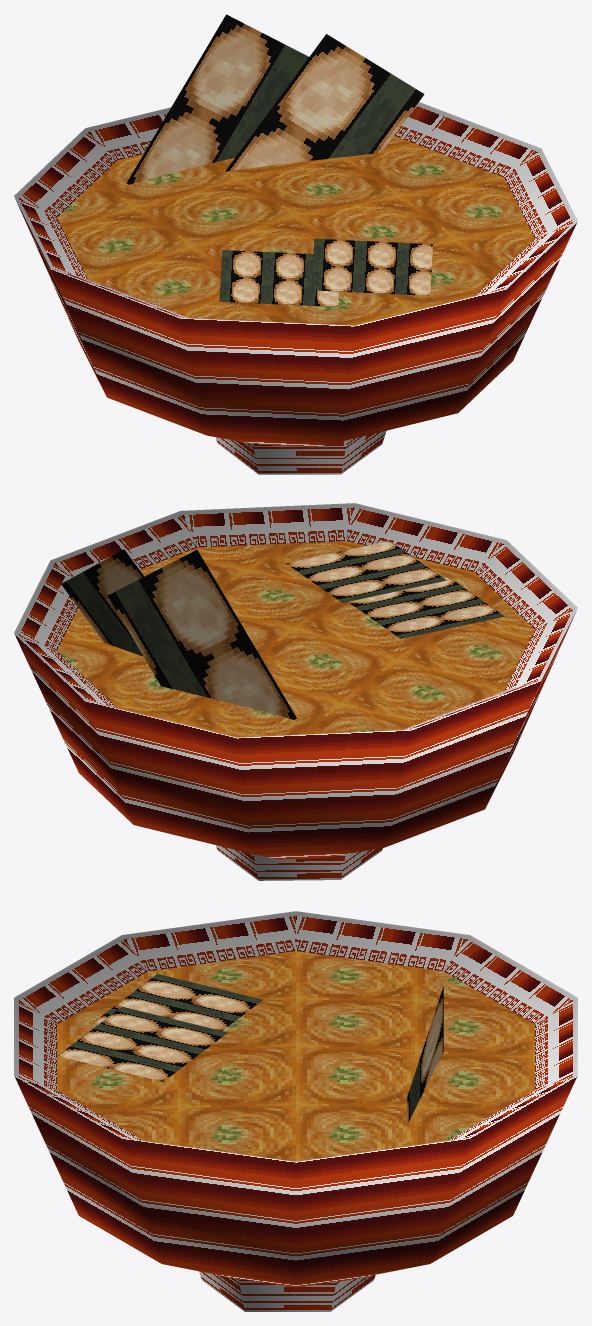
Rendered from ramen_b.gltf.
3 views of the same model, one above another, from view 1: azimuth 30°, elevation 25°; view 2: azimuth 150°, elevation 25°; view 3: azimuth 270°, elevation 25° (orthographic). The views are drawn at different scales.
Visible parts, largest first — view 1: ramen_b; view 2: ramen_b; view 3: ramen_b.
Part boxes in pixels (x1,y1,x2,y2): ramen_b: (14, 14, 577, 474); ramen_b: (14, 503, 577, 880); ramen_b: (14, 911, 577, 1311).
Bounding box in the file's own units: 0.7769 × 0.5618 × 0.7388.
3 materials, 3 textured.
